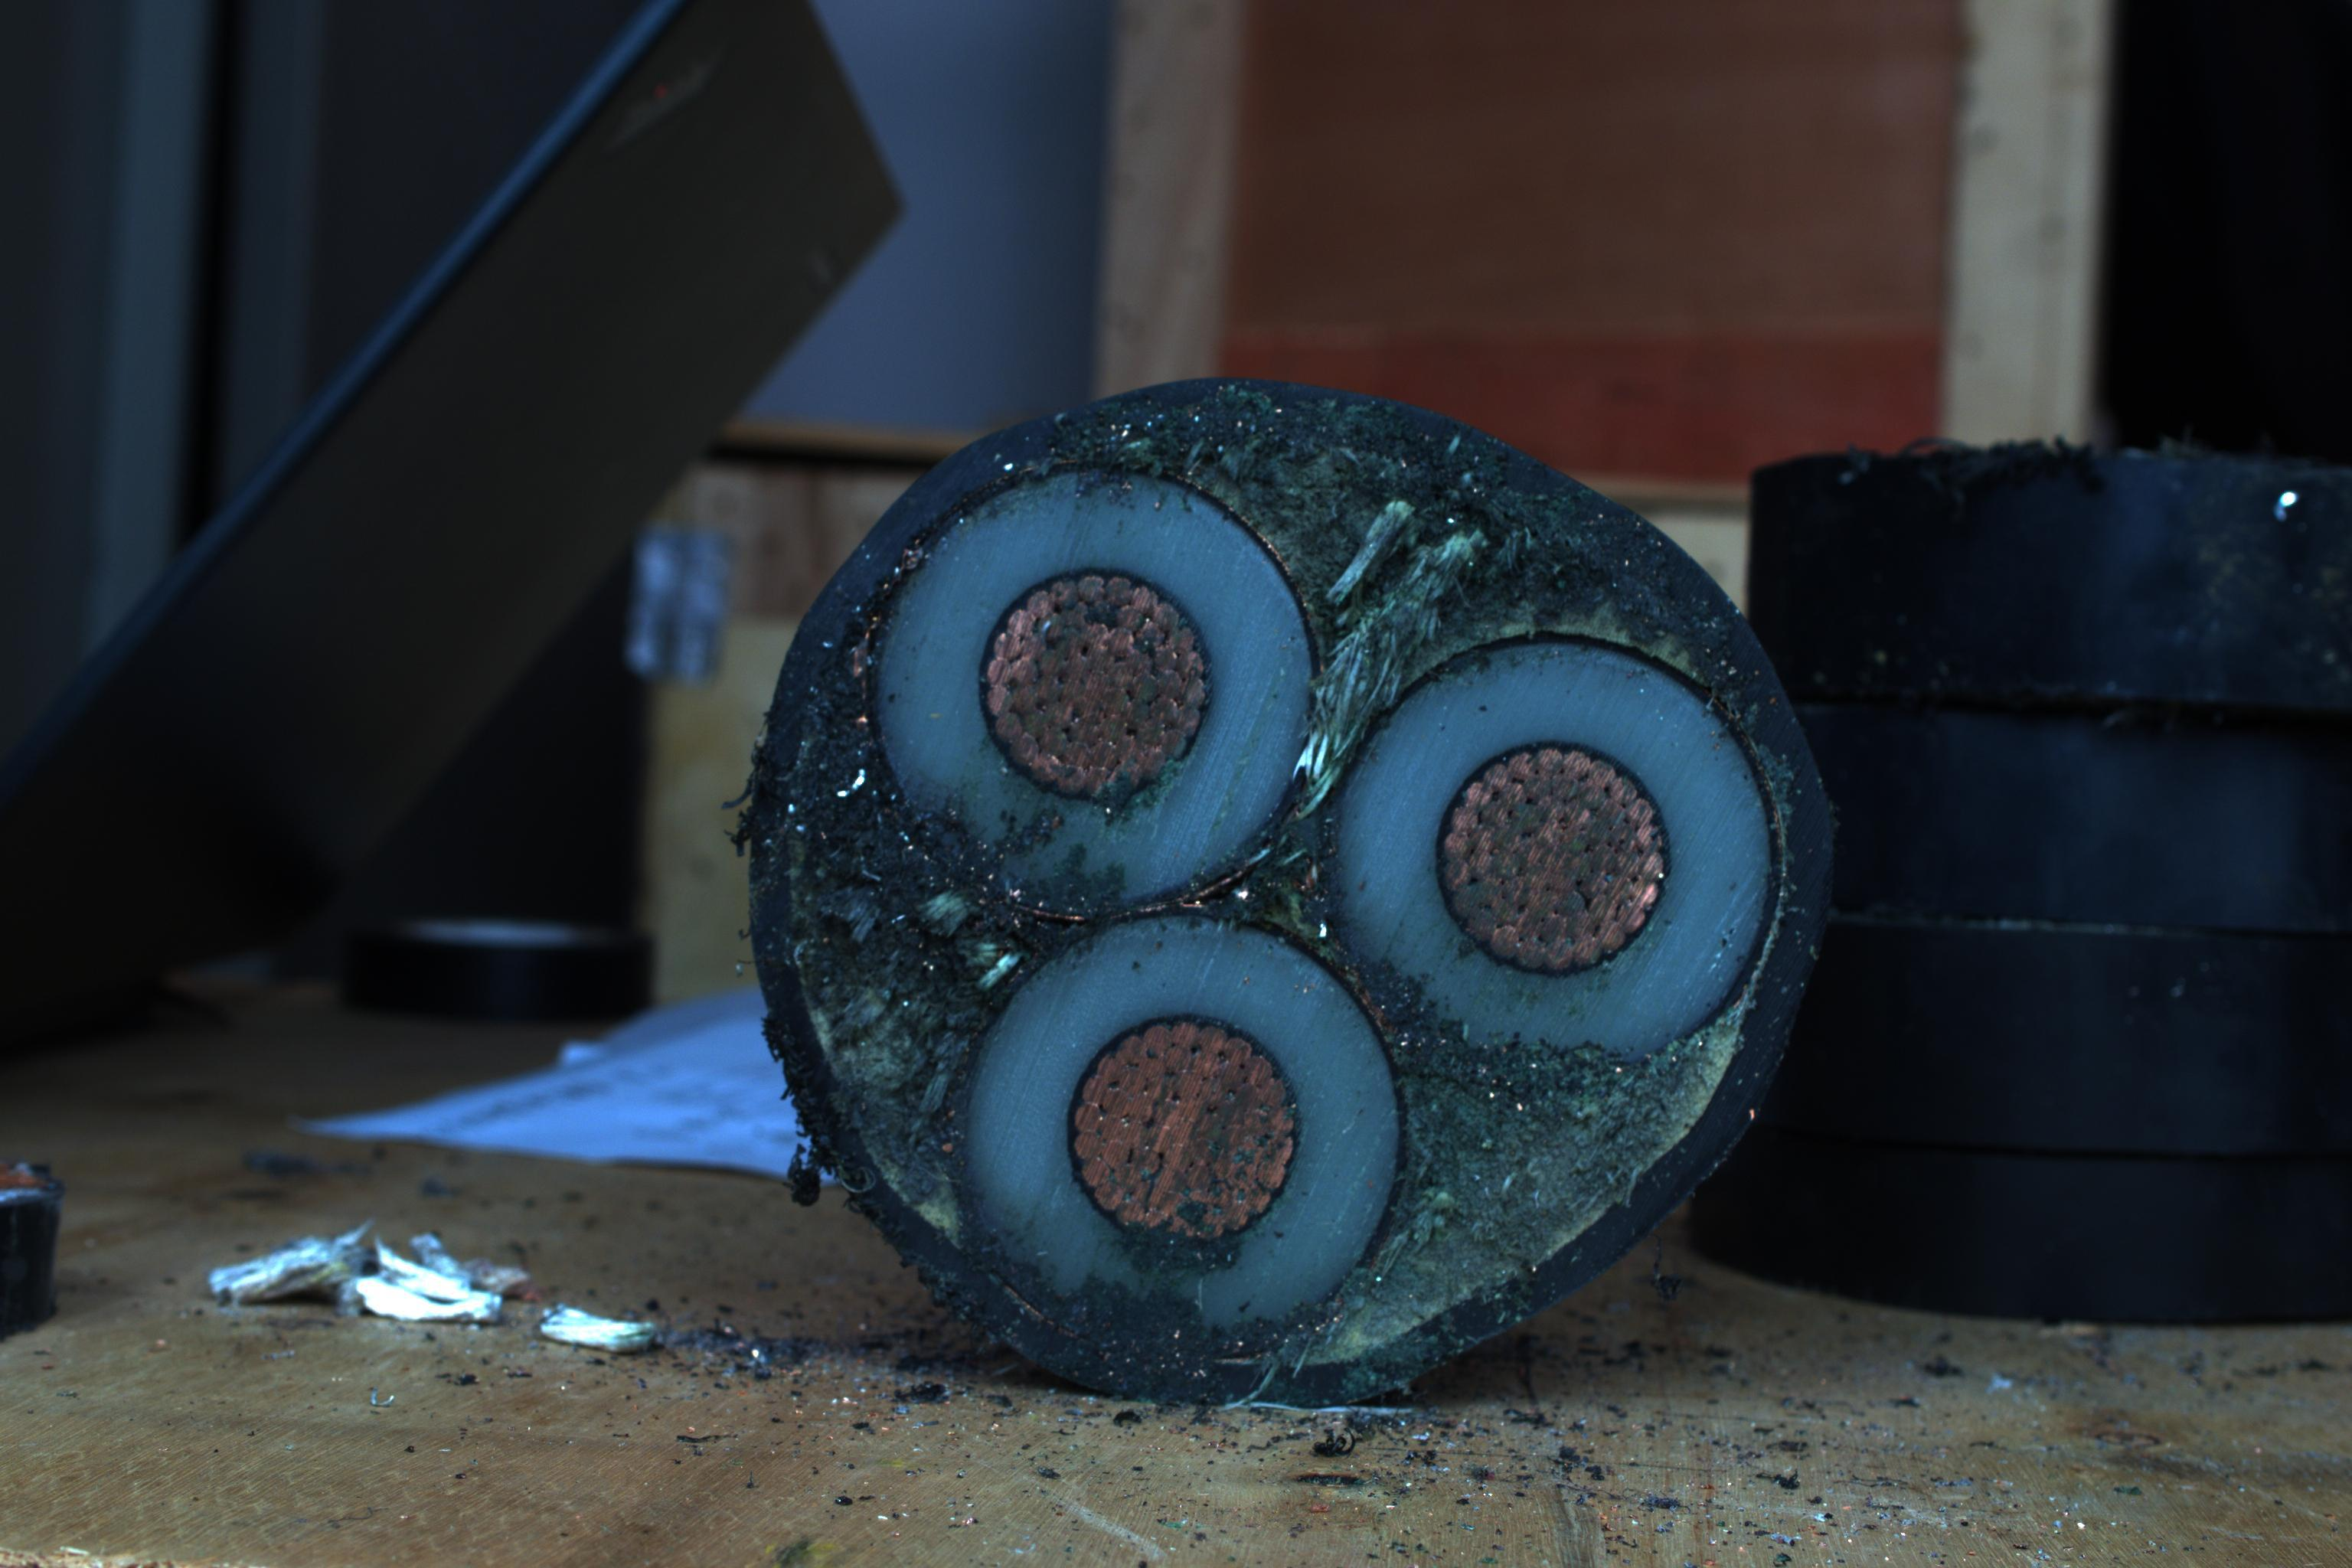ZA_YJV_26_35kV_3x400: (717, 348, 1839, 1405)
